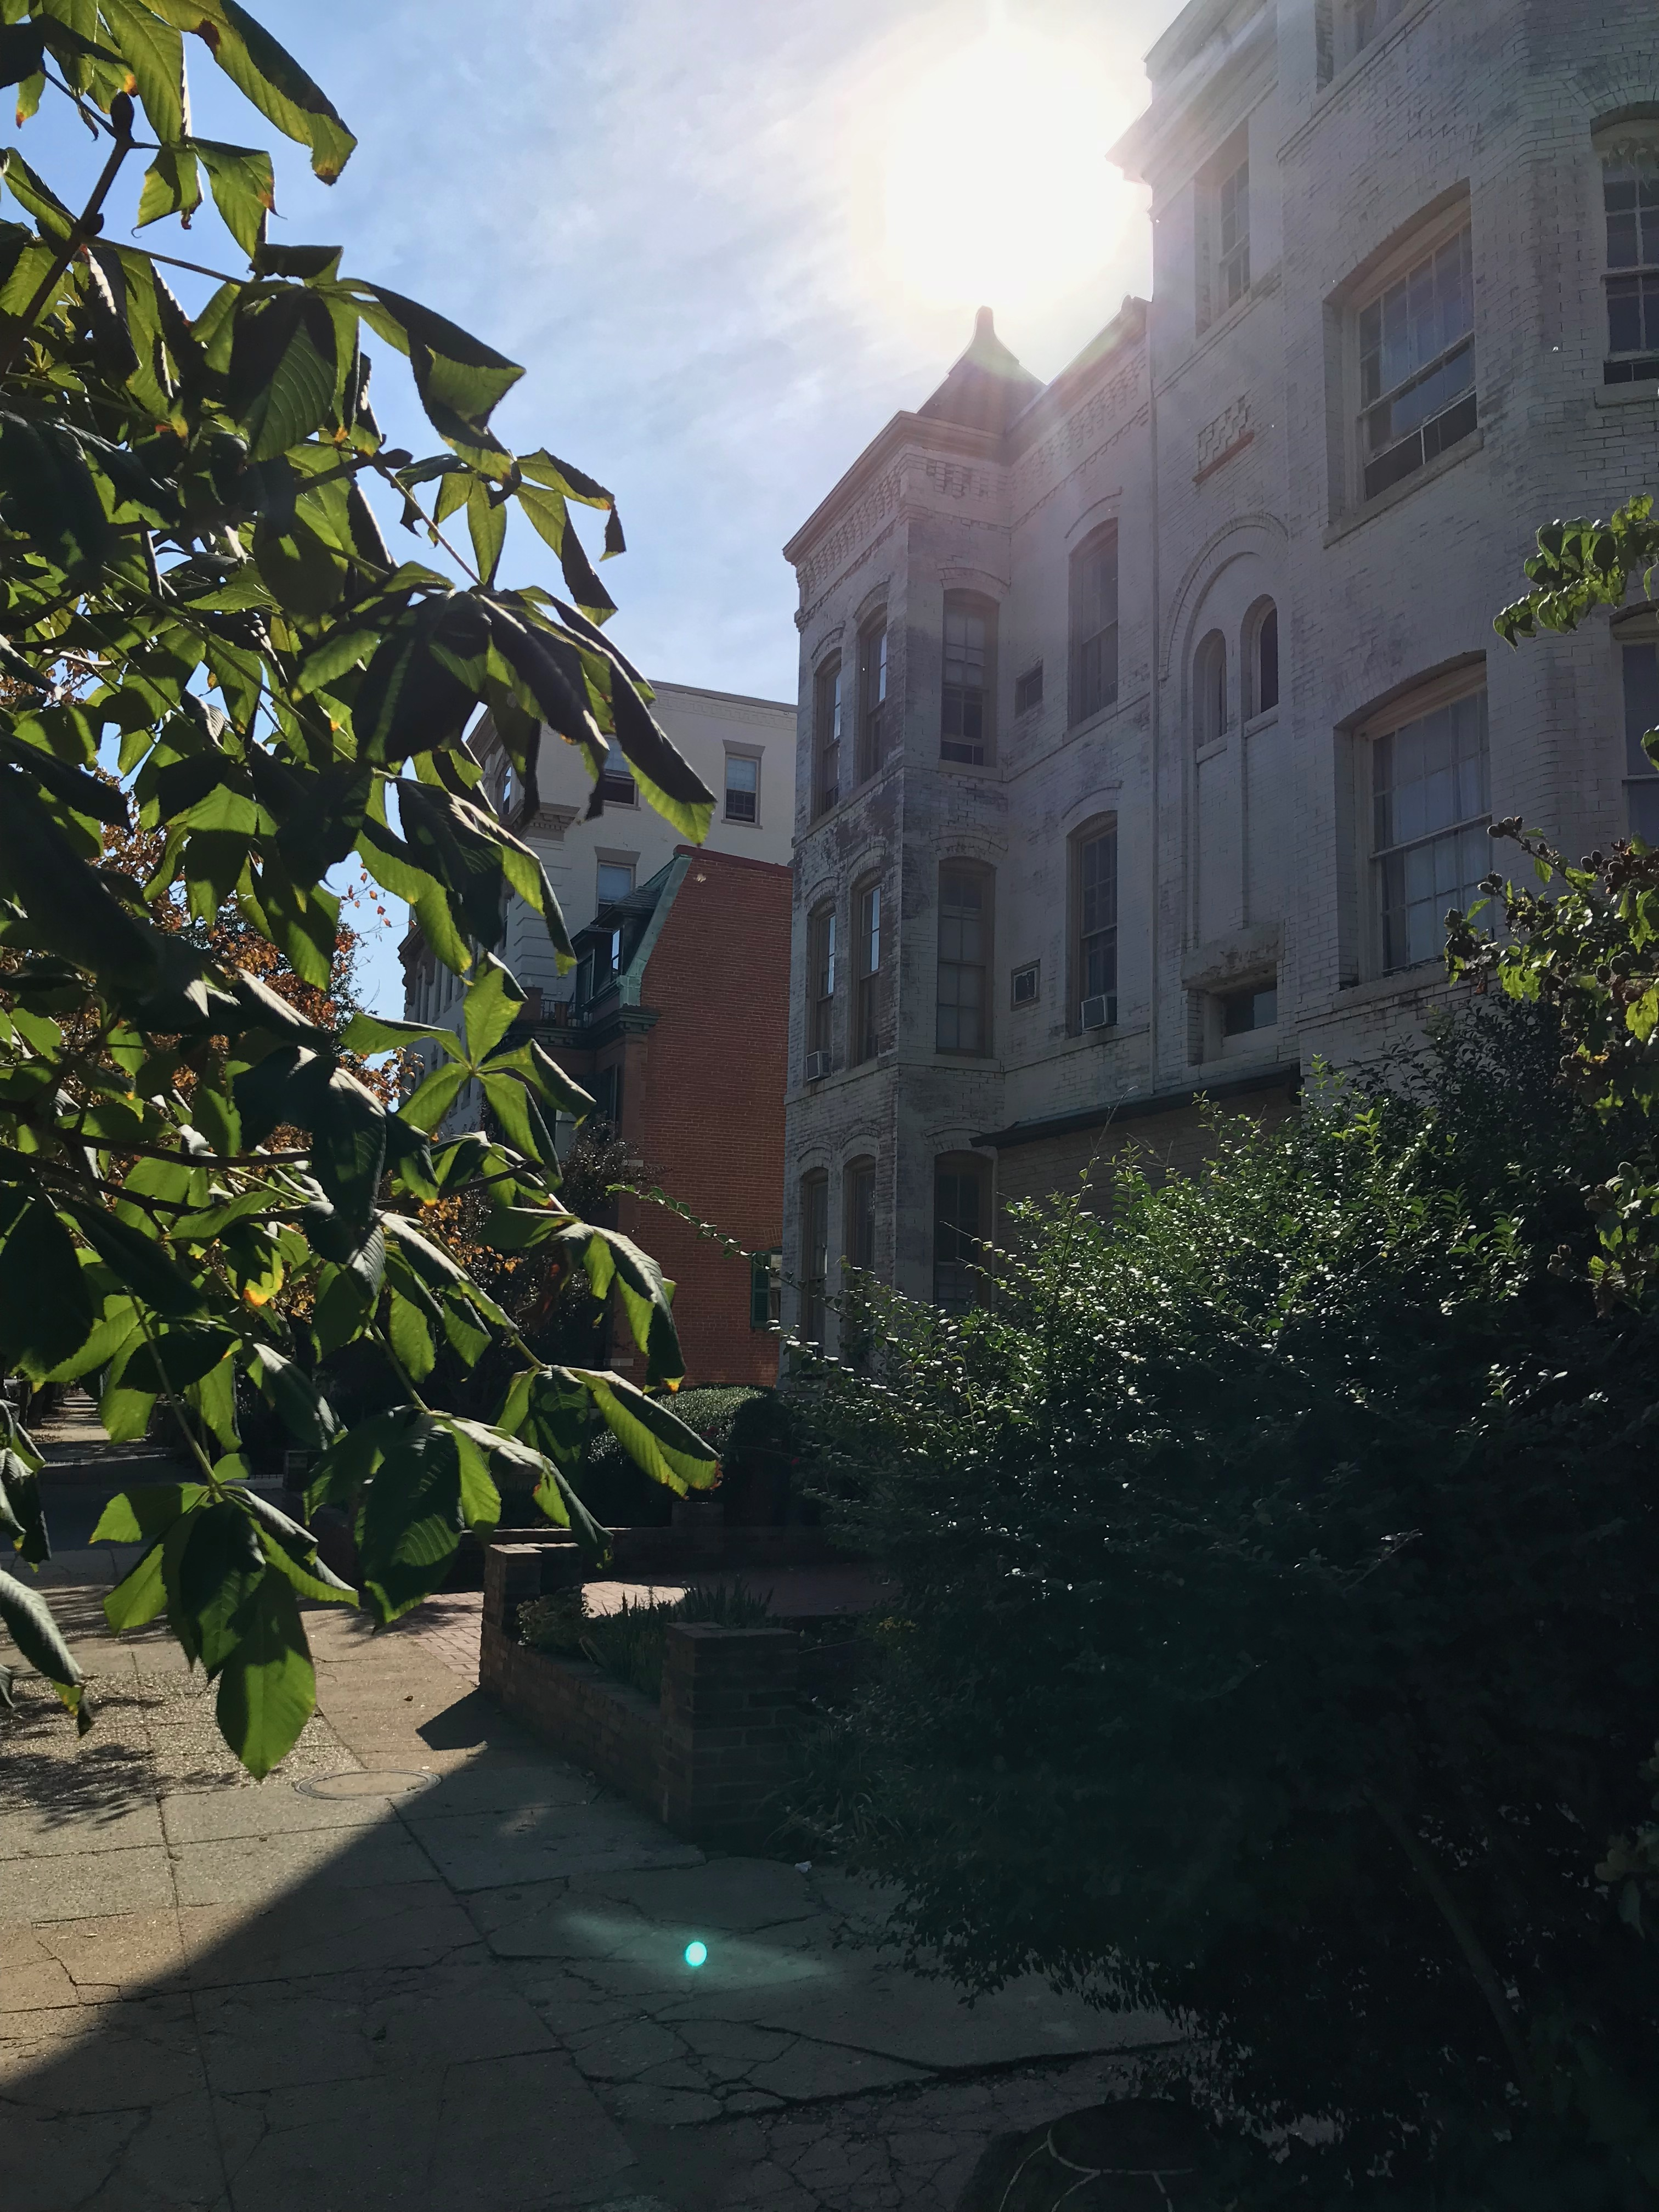flare: (683, 1939, 709, 1968)
